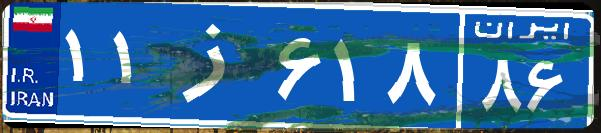1: (330, 28, 385, 110), (57, 26, 110, 107), (110, 28, 158, 105)
6: (273, 28, 330, 110), (525, 38, 570, 115)
8: (385, 28, 445, 110), (475, 38, 525, 113)
ز: (158, 15, 273, 115)
